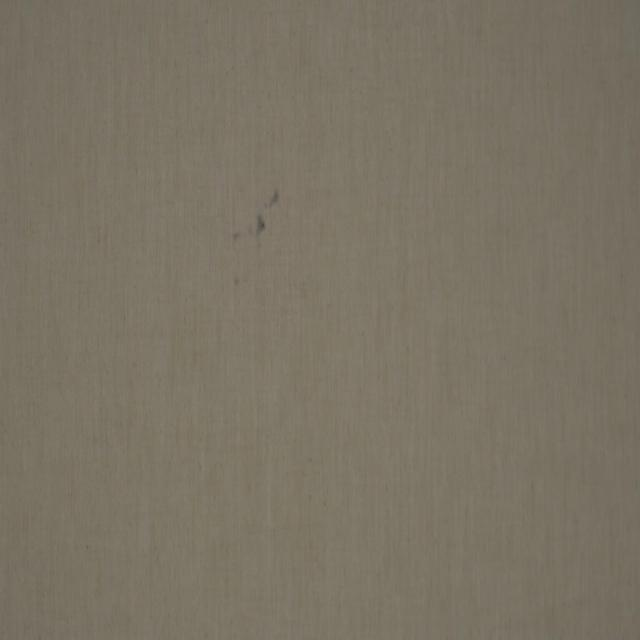dirty: (237, 196, 280, 248)
